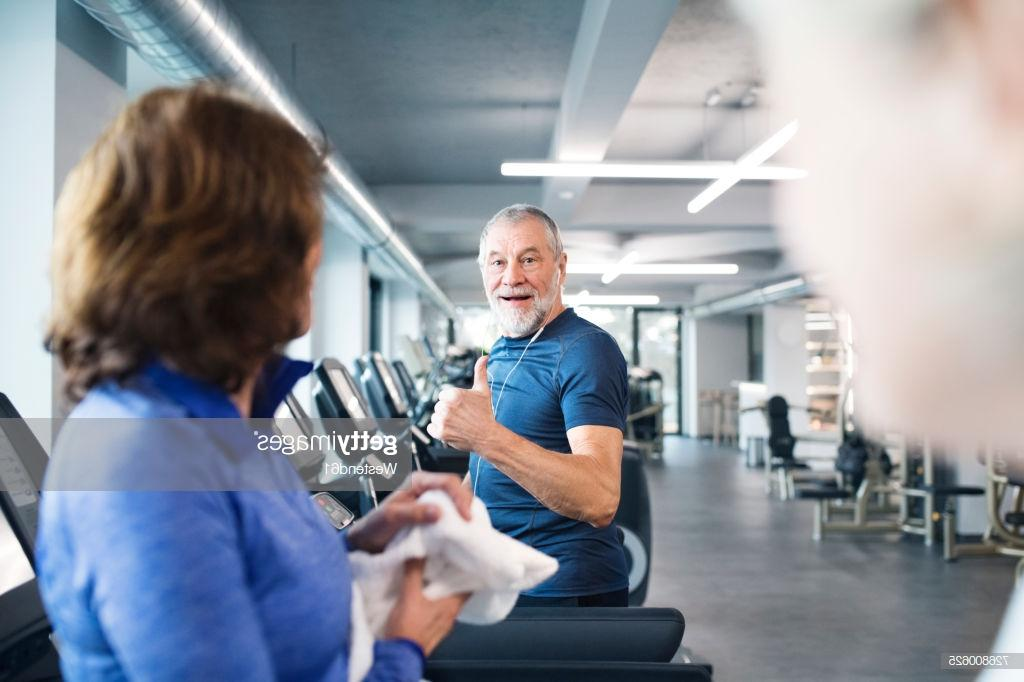thumbsup: (427, 355, 490, 438)
